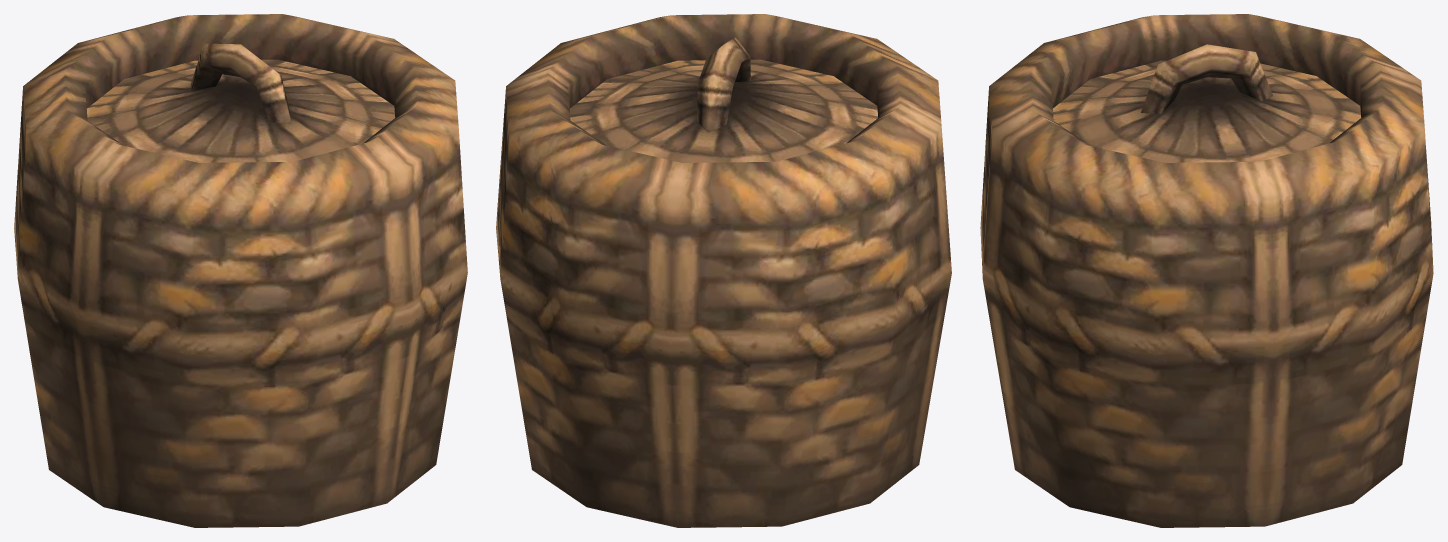
The picture shows the model from 3 angles, left to right: view 1: azimuth 30°, elevation 25°; view 2: azimuth 150°, elevation 25°; view 3: azimuth 270°, elevation 25°; orthographic projection.
Bounding box in the file's own units: 1.47 × 1.43 × 1.47.
1 material, 1 textured.
